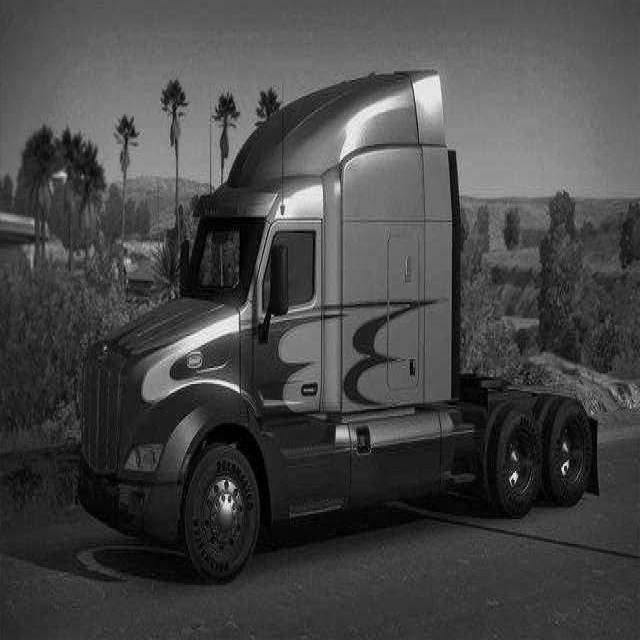Truck: (80, 73, 596, 579)
